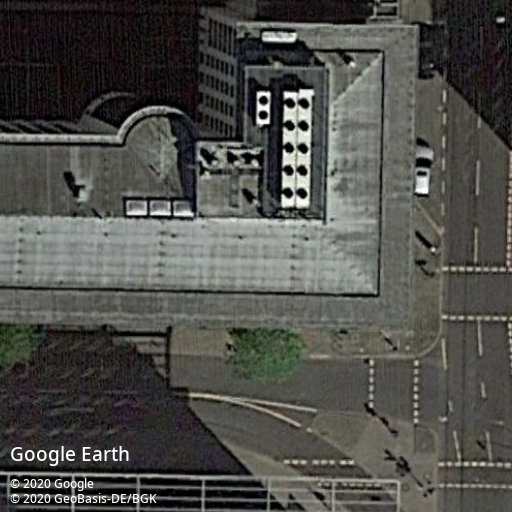Chiller: (296, 88, 314, 210), (280, 91, 298, 208), (255, 89, 272, 127)
